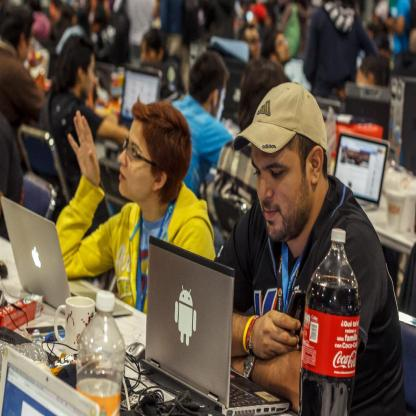board: (140, 235, 291, 415), (2, 196, 132, 315), (298, 227, 358, 416), (0, 348, 99, 416), (76, 290, 125, 416), (334, 134, 390, 212), (120, 63, 164, 123)
